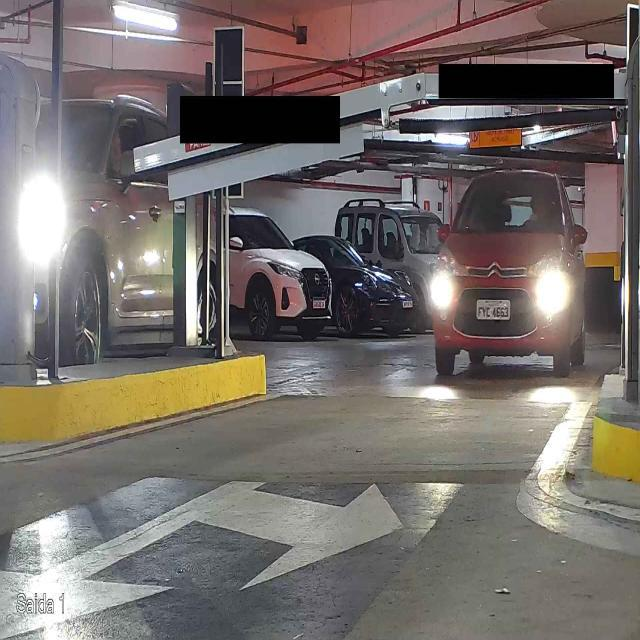old_plate: (474, 298, 512, 322)
